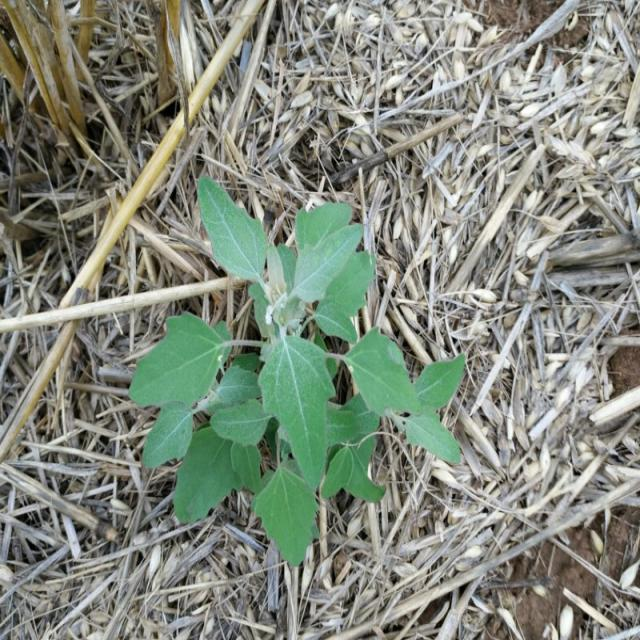goosefoots: (140, 200, 463, 554)
